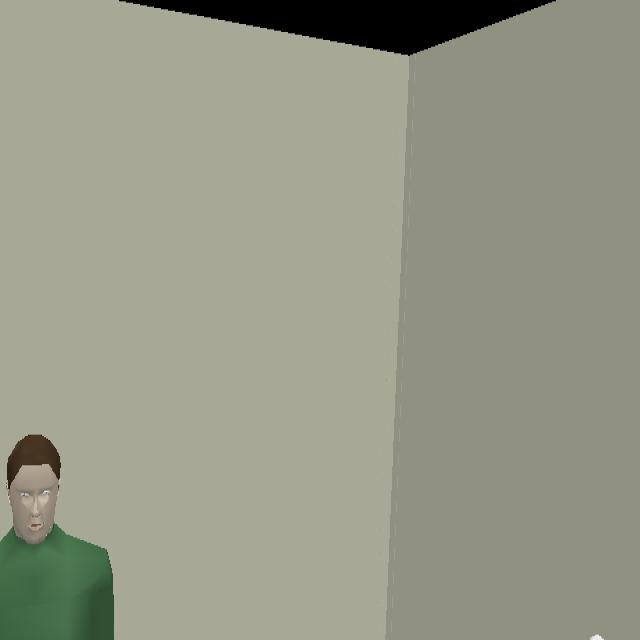person: (0, 436, 115, 640)
